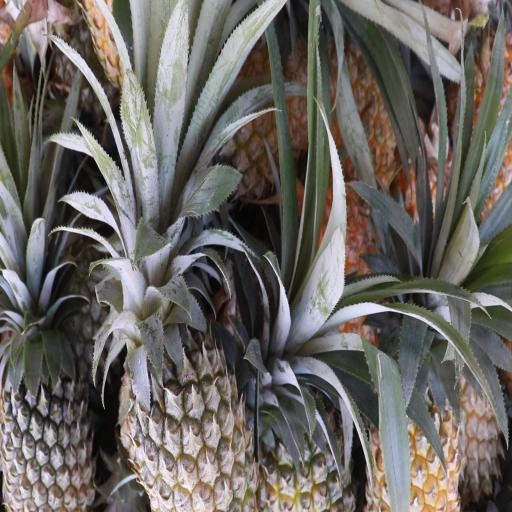Pineapple - v8 v1: (362, 293, 462, 512)
